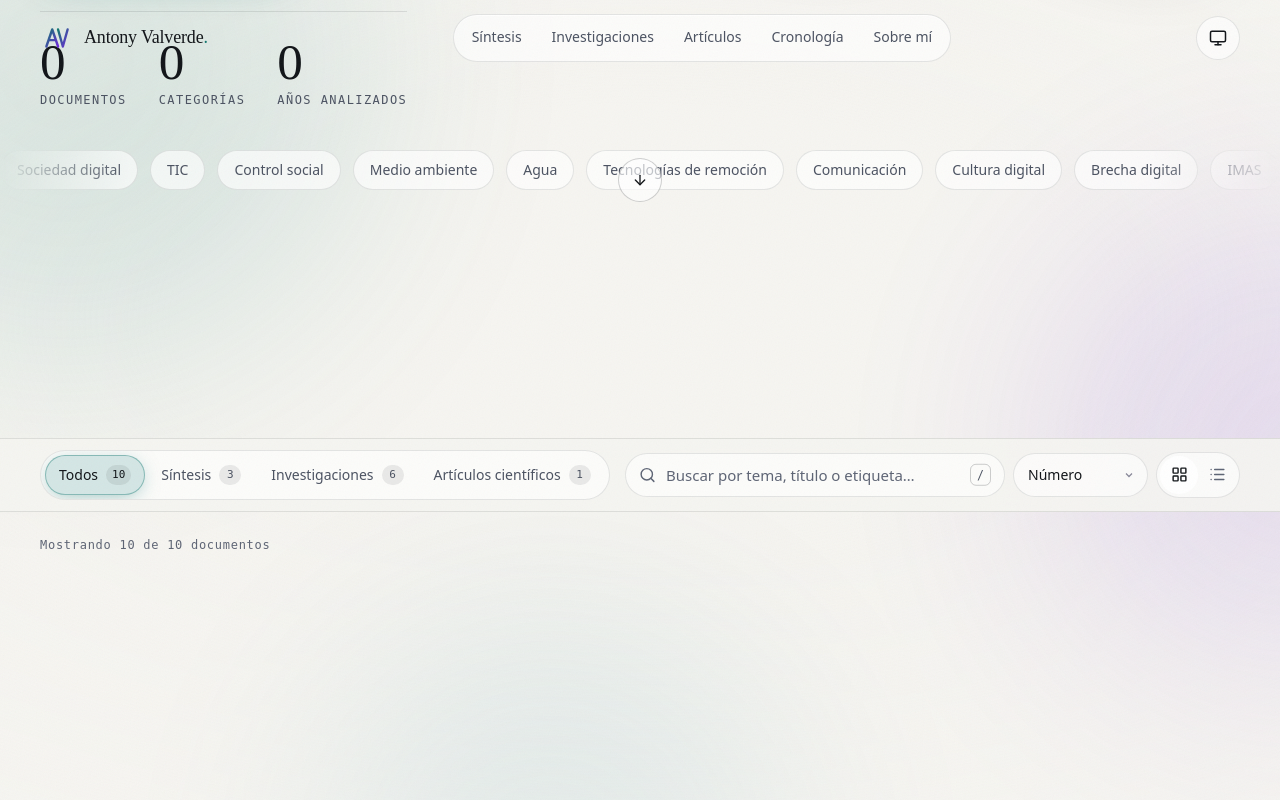
Test case: App › busca sin distinguir tildes
(page scrolled)
Type "agricola" into the search field named "Buscar documentos".
click(815, 475); type("agricola")  # box [625,453,1005,497]
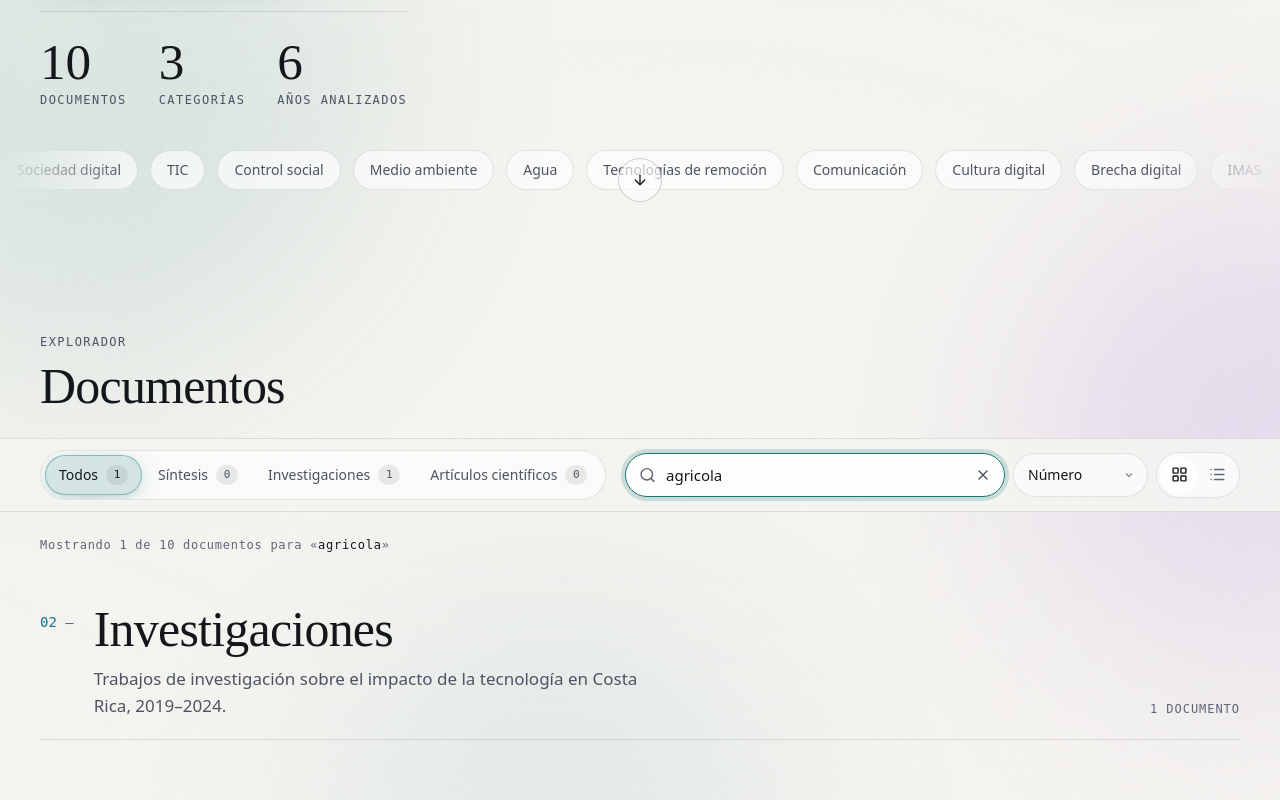
Check: the text "Mostrando 1 de 10 documentos para «agricola»" is shown, box [40,538,390,552]
